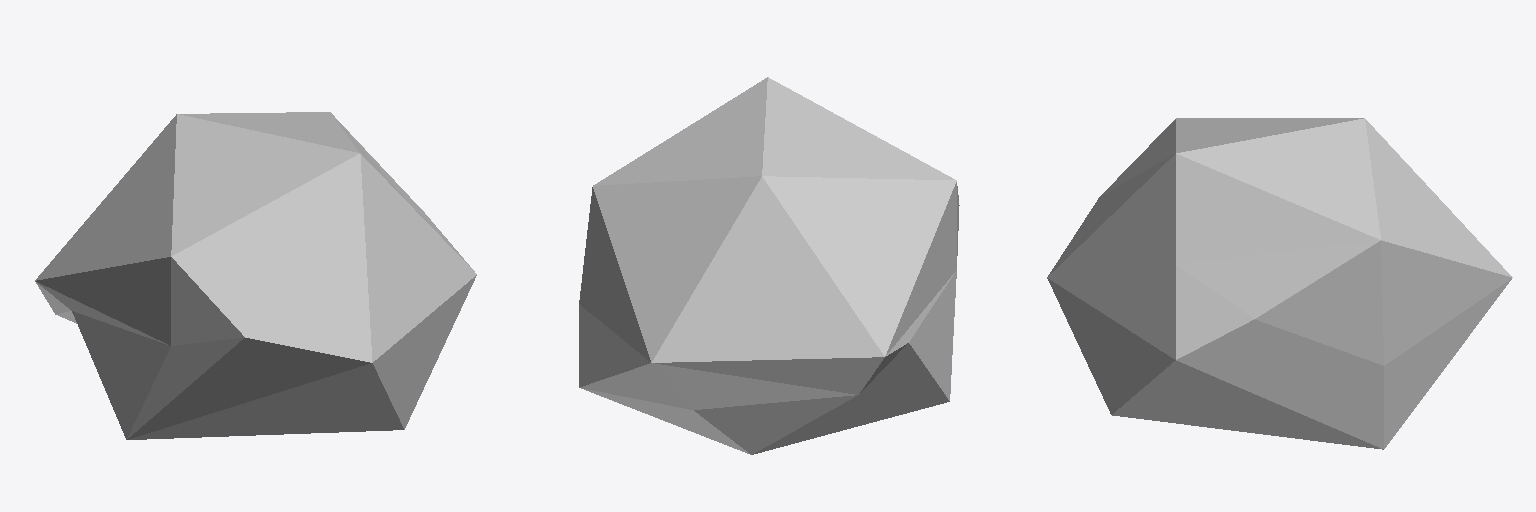
Rendered from bush.obj.
3 renders of one model, left to right at view 1: azimuth 30°, elevation 25°; view 2: azimuth 150°, elevation 25°; view 3: azimuth 270°, elevation 25°, orthographic.
Parts seen in each view (by area): view 1: bush; view 2: bush; view 3: bush.
Boxes of the visible parts, x1,y1,x2,y2 form: bush: [35, 112, 476, 439]; bush: [579, 77, 959, 454]; bush: [1047, 118, 1512, 449].
Bounding box in the file's own units: 2.2 × 1.59 × 2.63.